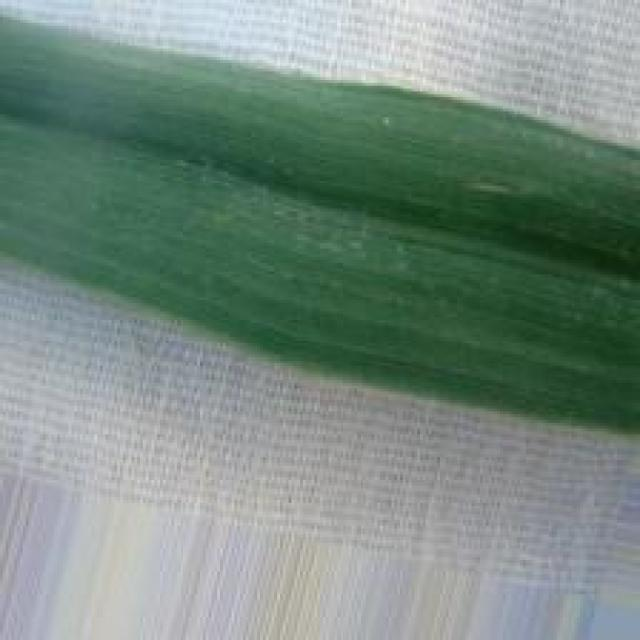Healthy: (0, 14, 640, 431)
